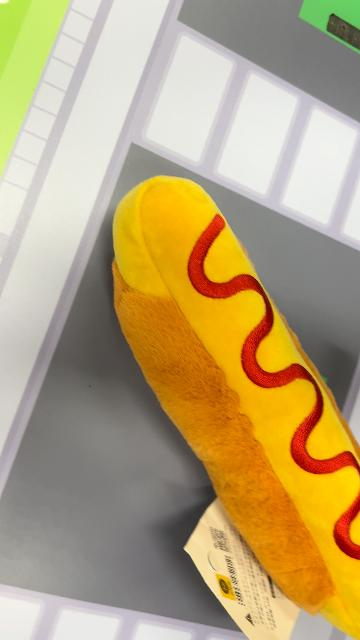hotdog: (110, 175, 360, 638)
